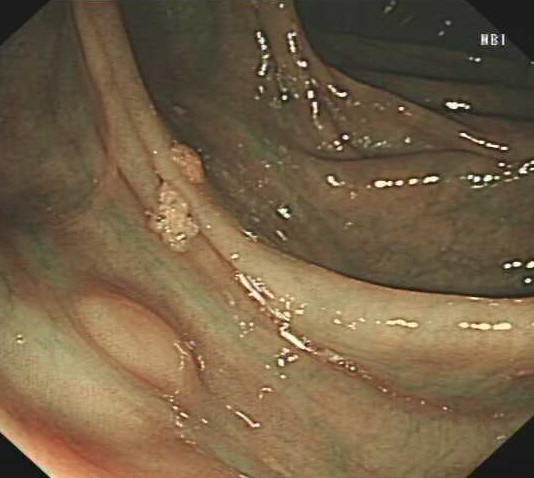others: (72, 291, 203, 393)
